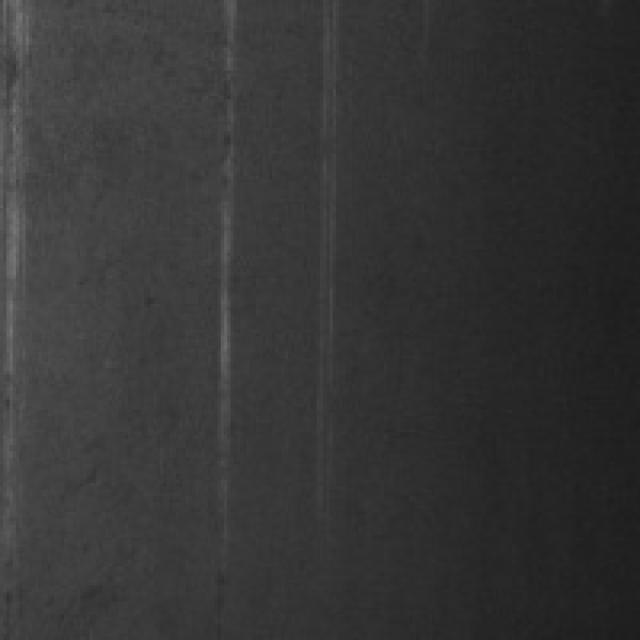scratches: (205, 9, 240, 556), (308, 0, 342, 512)
